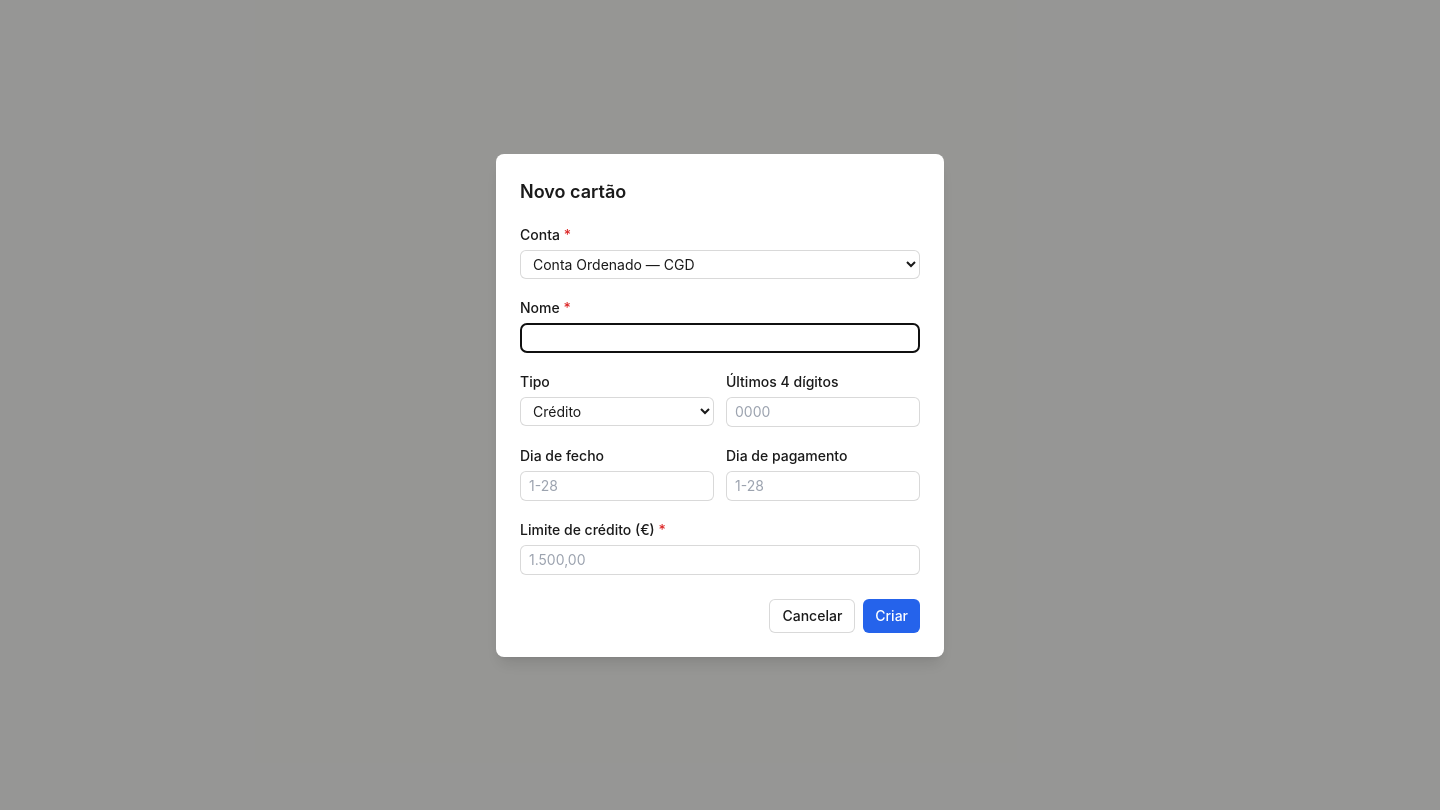
it: <NewCardModal> › last4 inválido bloqueia submit e mostra erro — sem POST
The width and height of the screenshot is (1440, 810).
Check: the dropdown named "Conta associada" is enabled, box [520,250,920,278]
In the field named "Nome do cartão": (720, 338) [520,322,920,352], type "Visa"
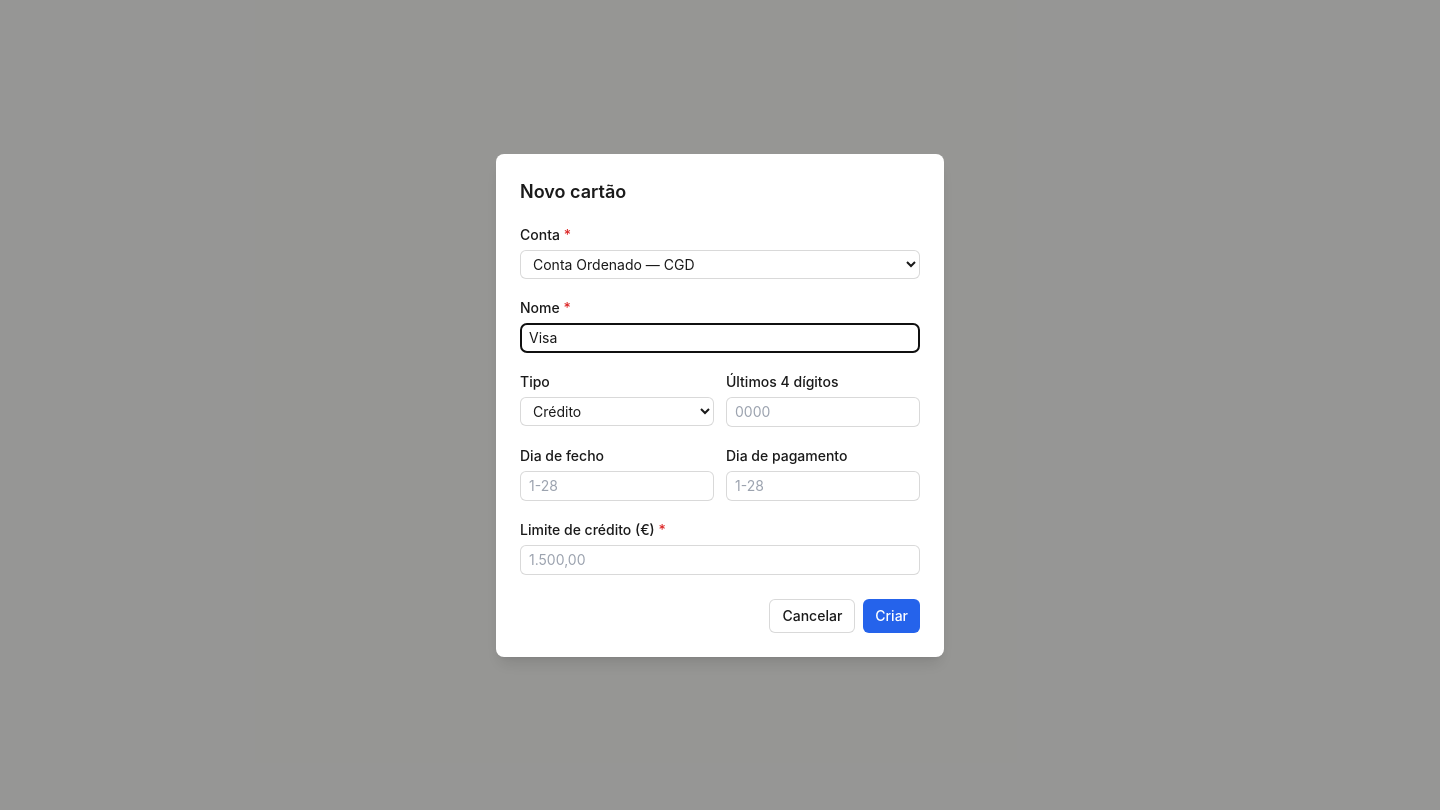
In the field labelled "Últimos 4 dígitos": (823, 412) [726,396,920,426], type "12a"
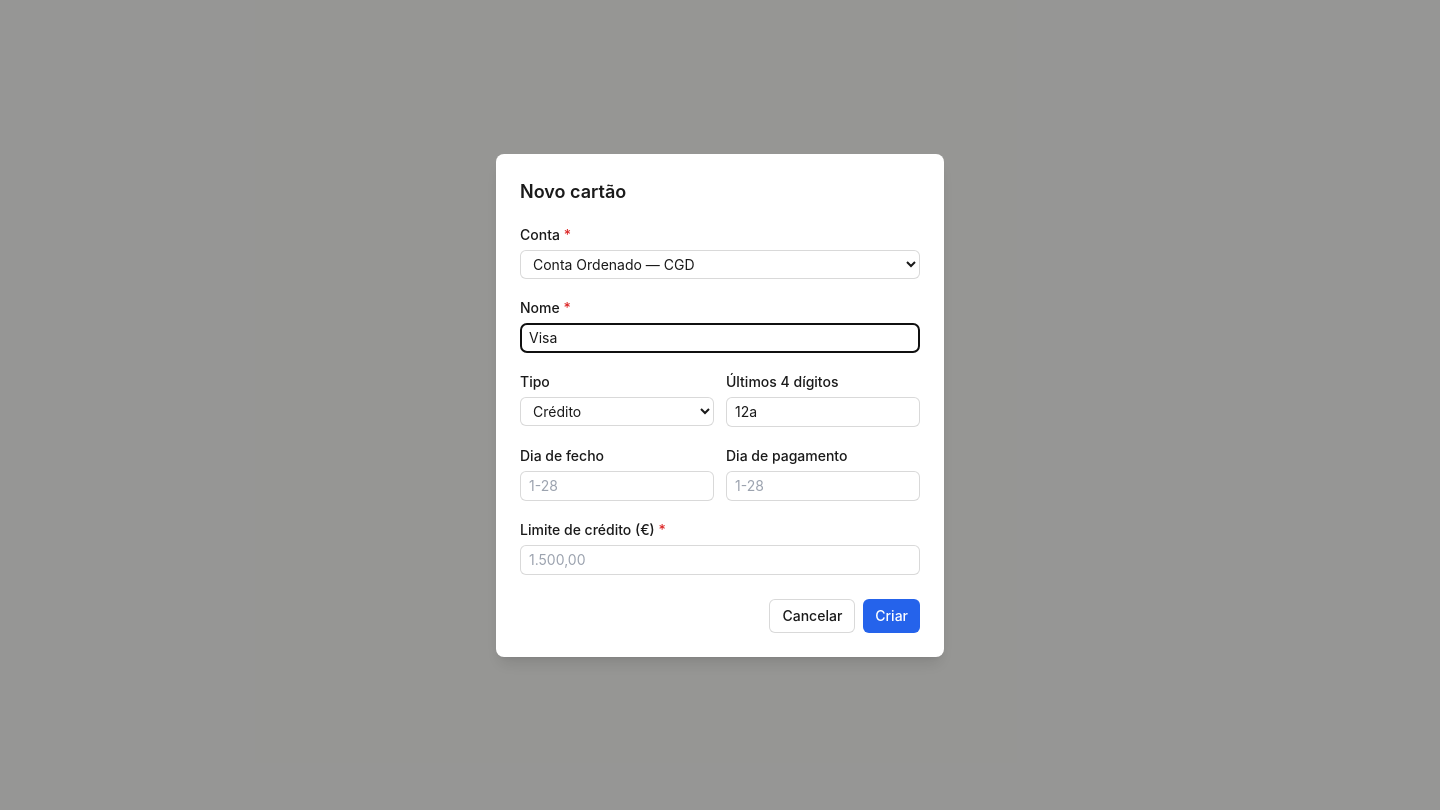
Click the button "Criar": (892, 616) [863,598,920,632]
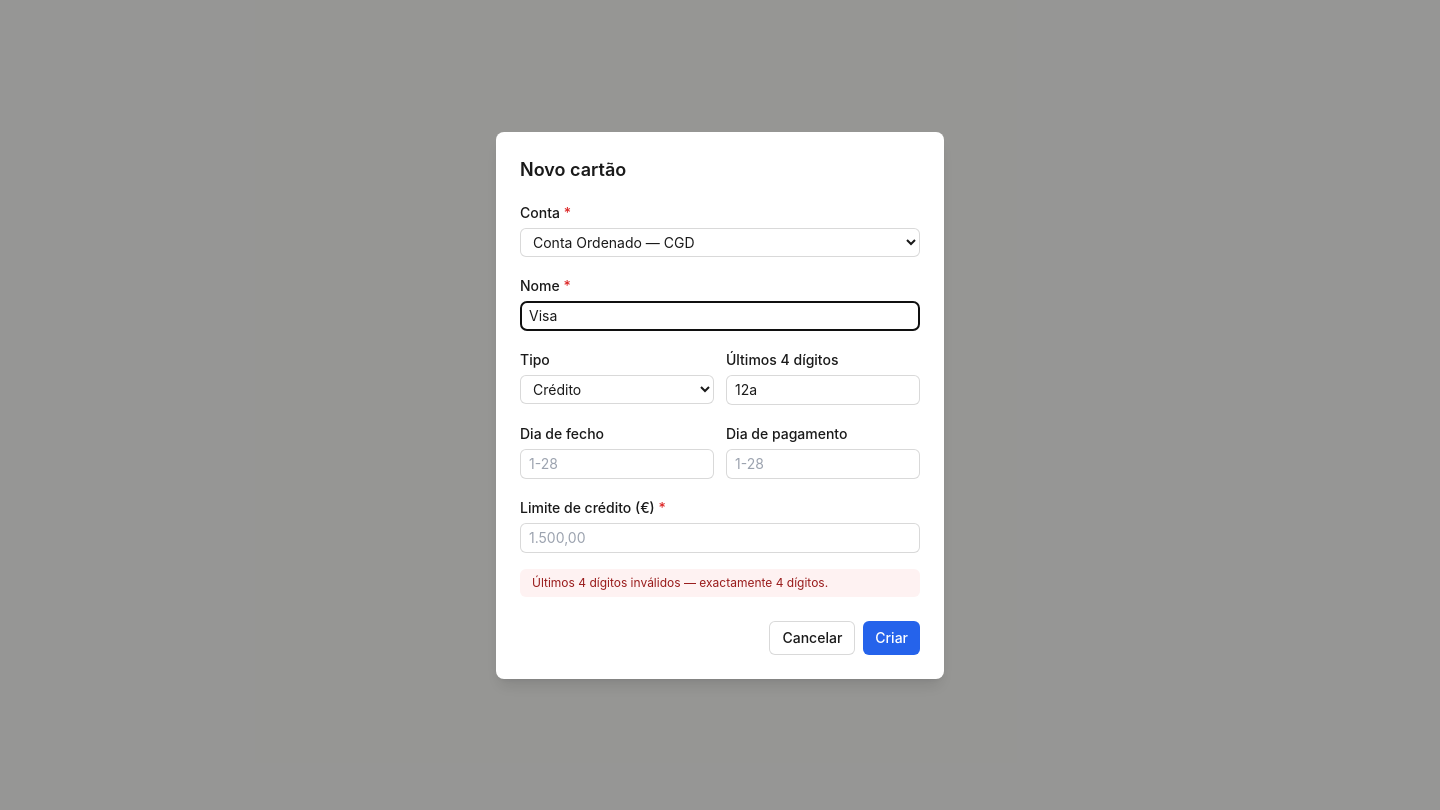
Check: the message shows "Últimos 4 dígitos inválidos", box [532,574,828,590]
